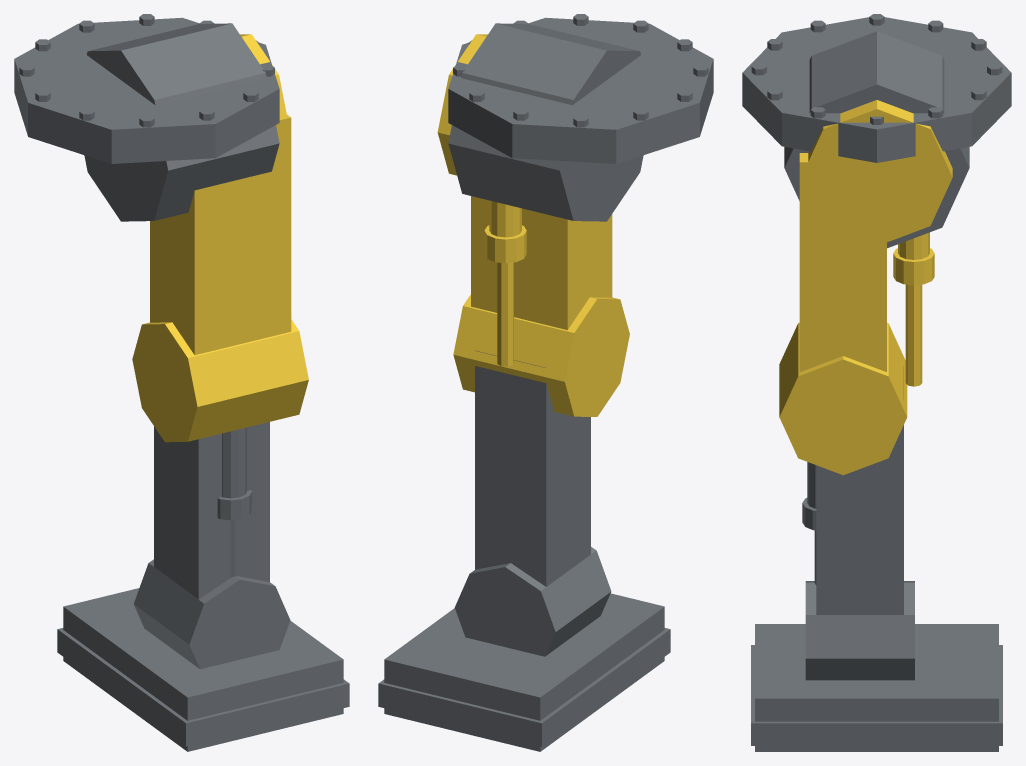
The model's file is leg_excavator.glb.
The picture shows the model from 3 angles, left to right: view 1: azimuth 30°, elevation 25°; view 2: azimuth 150°, elevation 25°; view 3: azimuth 270°, elevation 25°; orthographic projection. The views are drawn at different scales.
Visible parts, largest first — view 1: Excavator_Part3_PistonShinFoot, Excavator_Part1_HeavyGearbox, Excavator_Part2_TrussThigh; view 2: Excavator_Part3_PistonShinFoot, Excavator_Part1_HeavyGearbox, Excavator_Part2_TrussThigh; view 3: Excavator_Part3_PistonShinFoot, Excavator_Part2_TrussThigh, Excavator_Part1_HeavyGearbox.
Boxes of the visible parts, <box> form: Excavator_Part3_PistonShinFoot: <box>57,422,349,751</box>; Excavator_Part1_HeavyGearbox: <box>14,14,279,221</box>; Excavator_Part2_TrussThigh: <box>132,34,308,442</box>; Excavator_Part3_PistonShinFoot: <box>378,350,670,751</box>; Excavator_Part1_HeavyGearbox: <box>448,14,713,221</box>; Excavator_Part2_TrussThigh: <box>437,34,629,416</box>; Excavator_Part3_PistonShinFoot: <box>751,366,1002,751</box>; Excavator_Part2_TrussThigh: <box>779,100,952,475</box>; Excavator_Part1_HeavyGearbox: <box>742,14,1011,248</box>.
Size of the model in its own units: 1.73 by 4.23 by 1.6.
